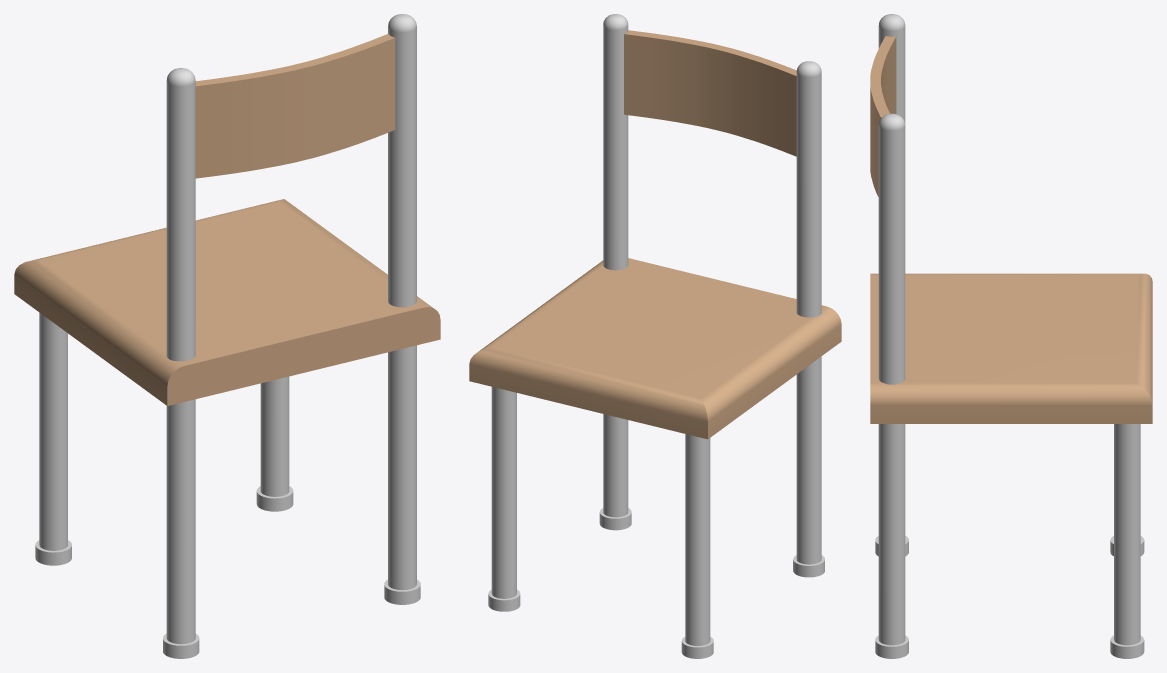
File: Chaise2_7.fbx
The picture shows the model from 3 angles, left to right: view 1: azimuth 30°, elevation 25°; view 2: azimuth 150°, elevation 25°; view 3: azimuth 270°, elevation 25°; orthographic projection. The views are drawn at different scales.
Visible parts, largest first — view 1: pCube2671, pCube2670, pCylinder1662, pCylinder1663, pCylinder1664, pCylinder1665; view 2: pCube2671, pCube2670, pCylinder1662, pCylinder1663, pCylinder1665, pCylinder1664; view 3: pCube2671, pCylinder1663, pCylinder1665, pCube2670, pCylinder1662.
Part boxes in pixels (x1,y1,x2,y2): pCube2671: (14,199,440,405); pCube2670: (195,34,395,178); pCylinder1662: (163,68,199,658); pCylinder1663: (384,14,420,604); pCylinder1664: (35,312,71,565); pCylinder1665: (256,376,293,511); pCube2671: (469,258,841,439); pCube2670: (624,30,796,156); pCylinder1662: (793,61,824,577); pCylinder1663: (599,14,631,530); pCylinder1665: (488,387,520,611); pCylinder1664: (681,434,713,658); pCube2671: (870,273,1152,423); pCylinder1663: (875,113,908,658); pCylinder1665: (1110,424,1144,658); pCube2670: (870,36,896,196); pCylinder1662: (875,14,908,556).
Size of the model in its own units: 40.39 by 82.1 by 39.23.
